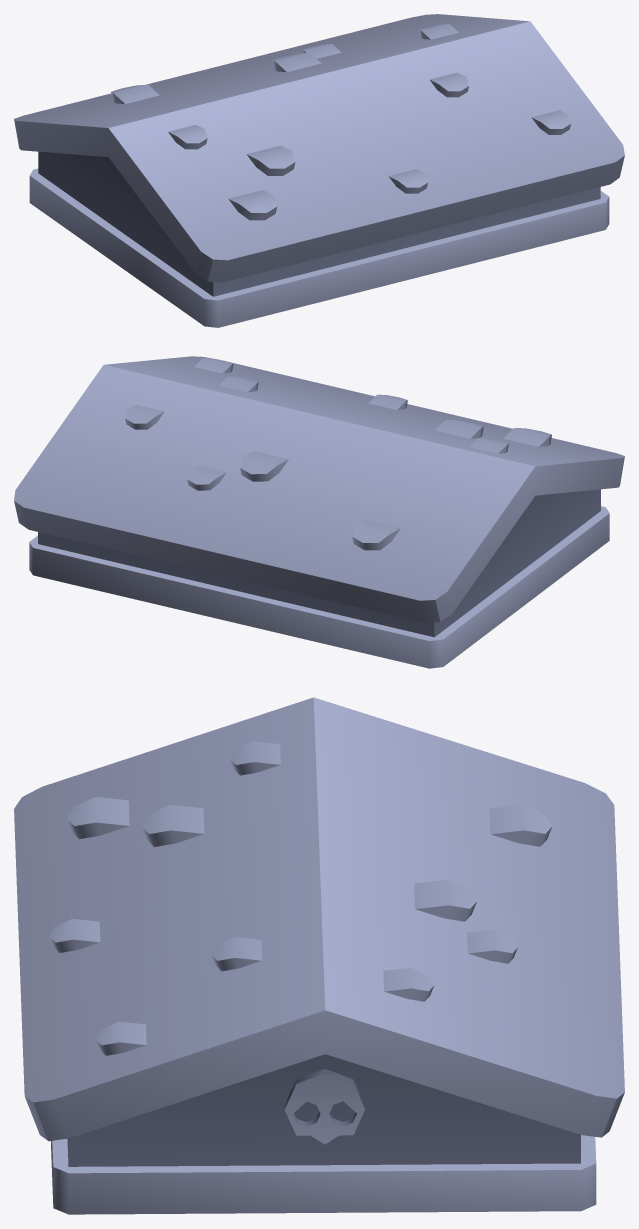
The model's file is crypt-large-roof.002_lev2.glb.
The picture shows the model from 3 angles, top to bottom: view 1: azimuth 30°, elevation 25°; view 2: azimuth 150°, elevation 25°; view 3: azimuth 270°, elevation 25°; orthographic projection. The views are drawn at different scales.
Parts seen in each view (by area): view 1: crypt-large-roof.002_lev2; view 2: crypt-large-roof.002_lev2; view 3: crypt-large-roof.002_lev2.
Boxes of the visible parts, box(x1,y1,x2,y2) form: crypt-large-roof.002_lev2: box(14, 14, 624, 327); crypt-large-roof.002_lev2: box(14, 356, 624, 668); crypt-large-roof.002_lev2: box(14, 697, 624, 1214).
Bounding box in the file's own units: 19.73 × 6.07 × 16.09.
1 material, 1 textured.
